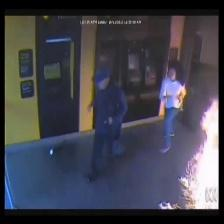fire: (178, 100, 218, 209)
